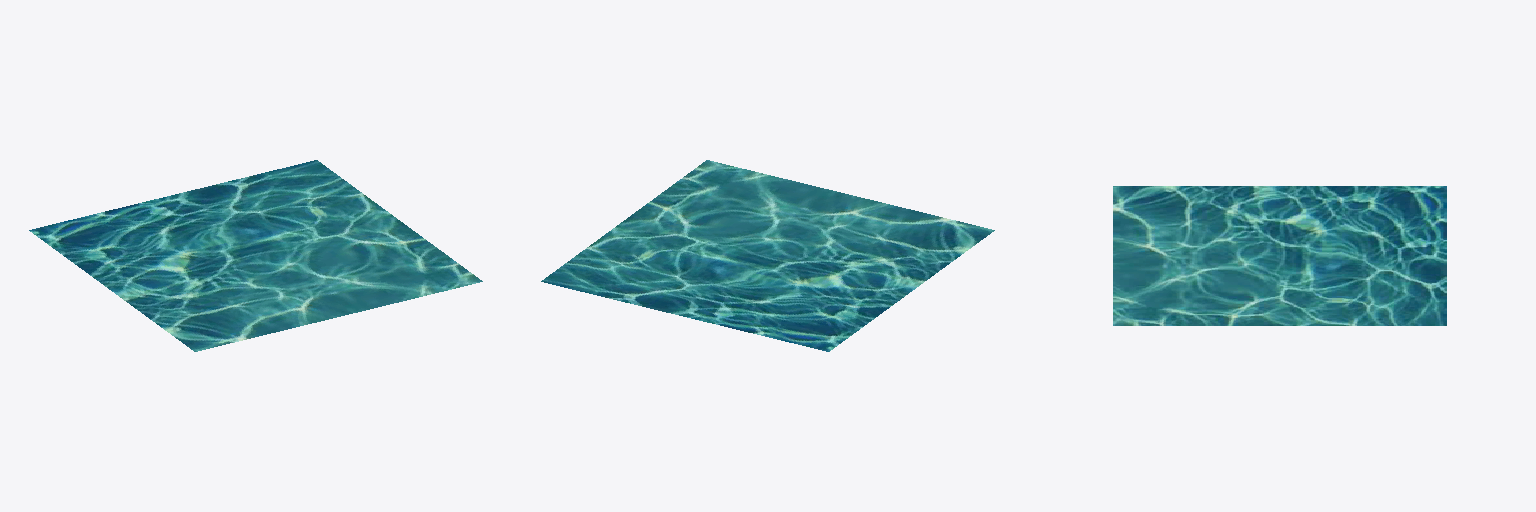
3 renders of one model, left to right at view 1: azimuth 30°, elevation 25°; view 2: azimuth 150°, elevation 25°; view 3: azimuth 270°, elevation 25°, orthographic.
Parts seen in each view (by area): view 1: Plane; view 2: Plane; view 3: Plane.
Boxes of the visible parts, <box> form: Plane: <box>29,160,482,351</box>; Plane: <box>541,160,994,351</box>; Plane: <box>1113,186,1446,325</box>.
Size of the model in its own units: 10 by 0 by 10.
Materials: 1 (1 with a texture image).